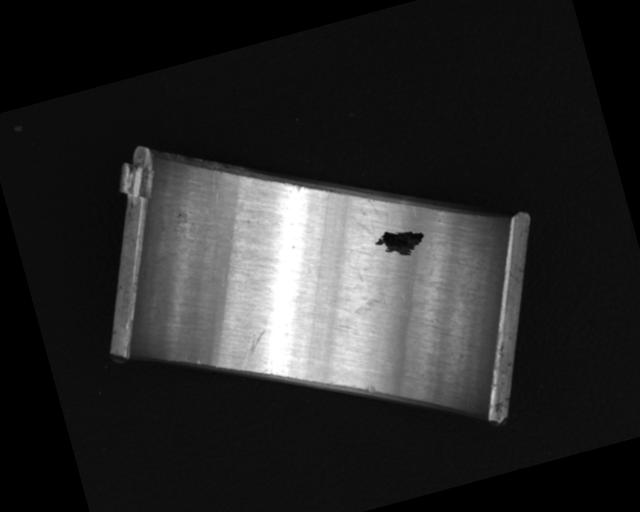blot: (345, 266, 416, 318), (371, 219, 429, 264)
bruise: (367, 383, 377, 395), (293, 183, 303, 194)
nick: (233, 328, 275, 373)
